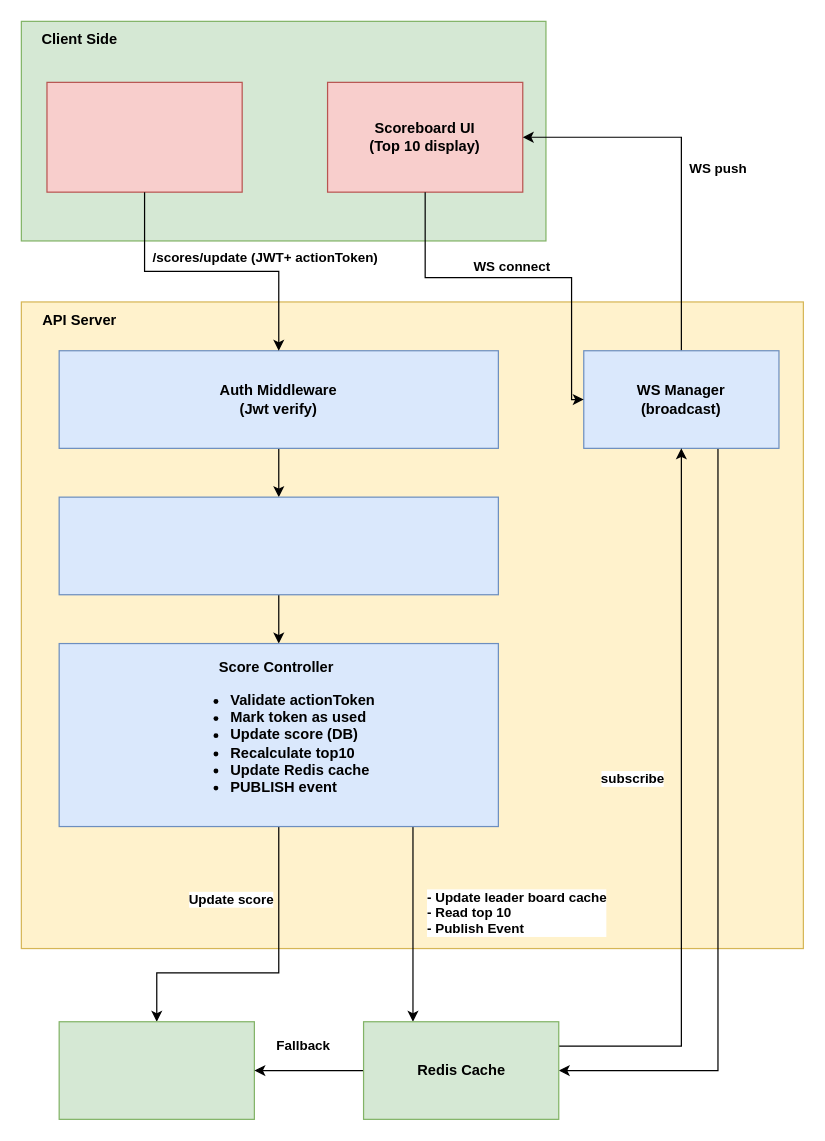
Some shapes in this 825 by 1141 pixel diagram are drawn without their labels. The shapes that lost their labels are listed below. From the top down, each one's centre as x and y in pixels, then its label:
the point at 144,136: User Action
the point at 278,545: Rate limiter (Per userid)
the point at 156,1070: Postgre SQL
